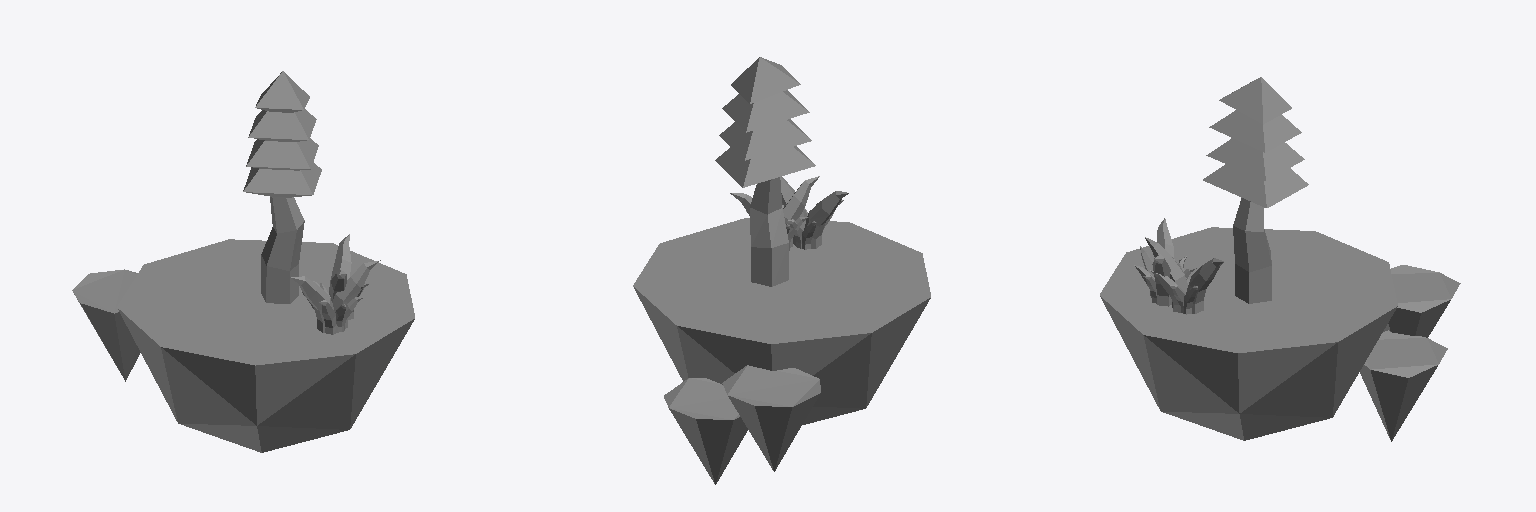
Rendered from Prehistoric_Island_3.obj.
The picture shows the model from 3 angles: view 1: azimuth 30°, elevation 25°; view 2: azimuth 150°, elevation 25°; view 3: azimuth 270°, elevation 25°; orthographic projection.
Visible parts, largest first — view 1: GeoSphere004, Cylinder006, Cylinder002, Hedra002, Hedra003, Hedra004, Hedra005, Cylinder031, Cylinder030; view 2: GeoSphere004, Cylinder006, Cylinder028, Cylinder002, Hedra002, Hedra003, Hedra004, Hedra005, Cylinder030, Cylinder037; view 3: GeoSphere004, Cylinder028, Cylinder006, Cylinder002, Hedra002, Hedra003, Hedra004, Hedra005, Cylinder038, Cylinder037, Cylinder031.
Boxes of the visible parts, x1=… form: GeoSphere004: x1=117, y1=239, x2=414, y2=452; Cylinder006: x1=72, y1=269, x2=140, y2=381; Cylinder002: x1=261, y1=197, x2=304, y2=303; Hedra002: x1=243, y1=162, x2=321, y2=197; Hedra003: x1=246, y1=138, x2=318, y2=170; Hedra004: x1=248, y1=109, x2=316, y2=141; Hedra005: x1=255, y1=71, x2=309, y2=112; Cylinder031: x1=332, y1=260, x2=380, y2=328; Cylinder030: x1=290, y1=276, x2=333, y2=332; GeoSphere004: x1=633, y1=218, x2=930, y2=424; Cylinder006: x1=722, y1=365, x2=820, y2=471; Cylinder028: x1=664, y1=378, x2=747, y2=484; Cylinder002: x1=750, y1=177, x2=788, y2=286; Hedra002: x1=715, y1=146, x2=815, y2=187; Hedra003: x1=719, y1=119, x2=811, y2=160; Hedra004: x1=722, y1=90, x2=809, y2=132; Hedra005: x1=731, y1=57, x2=800, y2=103; Cylinder030: x1=804, y1=191, x2=848, y2=248; Cylinder037: x1=783, y1=176, x2=819, y2=247; GeoSphere004: x1=1100, y1=227, x2=1397, y2=440; Cylinder028: x1=1360, y1=330, x2=1447, y2=441; Cylinder006: x1=1383, y1=265, x2=1460, y2=337; Cylinder002: x1=1233, y1=198, x2=1271, y2=303; Hedra002: x1=1203, y1=164, x2=1308, y2=207; Hedra003: x1=1206, y1=138, x2=1304, y2=180; Hedra004: x1=1209, y1=110, x2=1301, y2=152; Hedra005: x1=1219, y1=77, x2=1291, y2=124; Cylinder038: x1=1186, y1=258, x2=1223, y2=313; Cylinder037: x1=1145, y1=237, x2=1187, y2=307; Cylinder031: x1=1152, y1=254, x2=1171, y2=306.
Bounding box in the file's own units: 116 × 161 × 140.